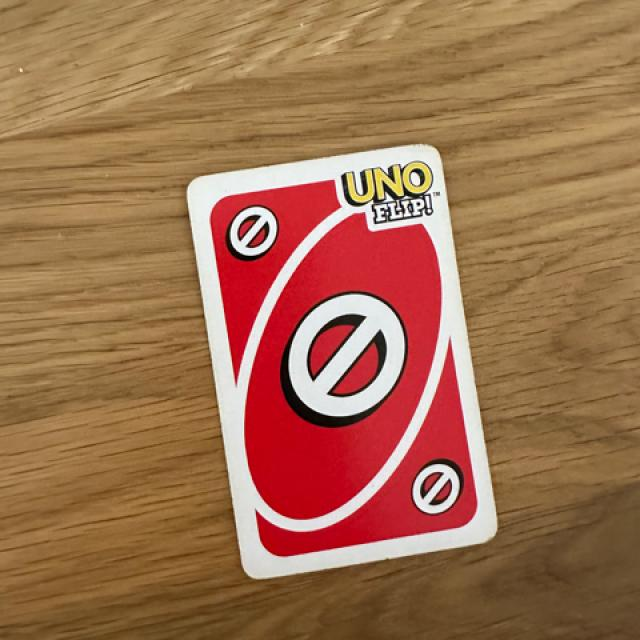lredskip-20: (205, 187, 303, 273)
